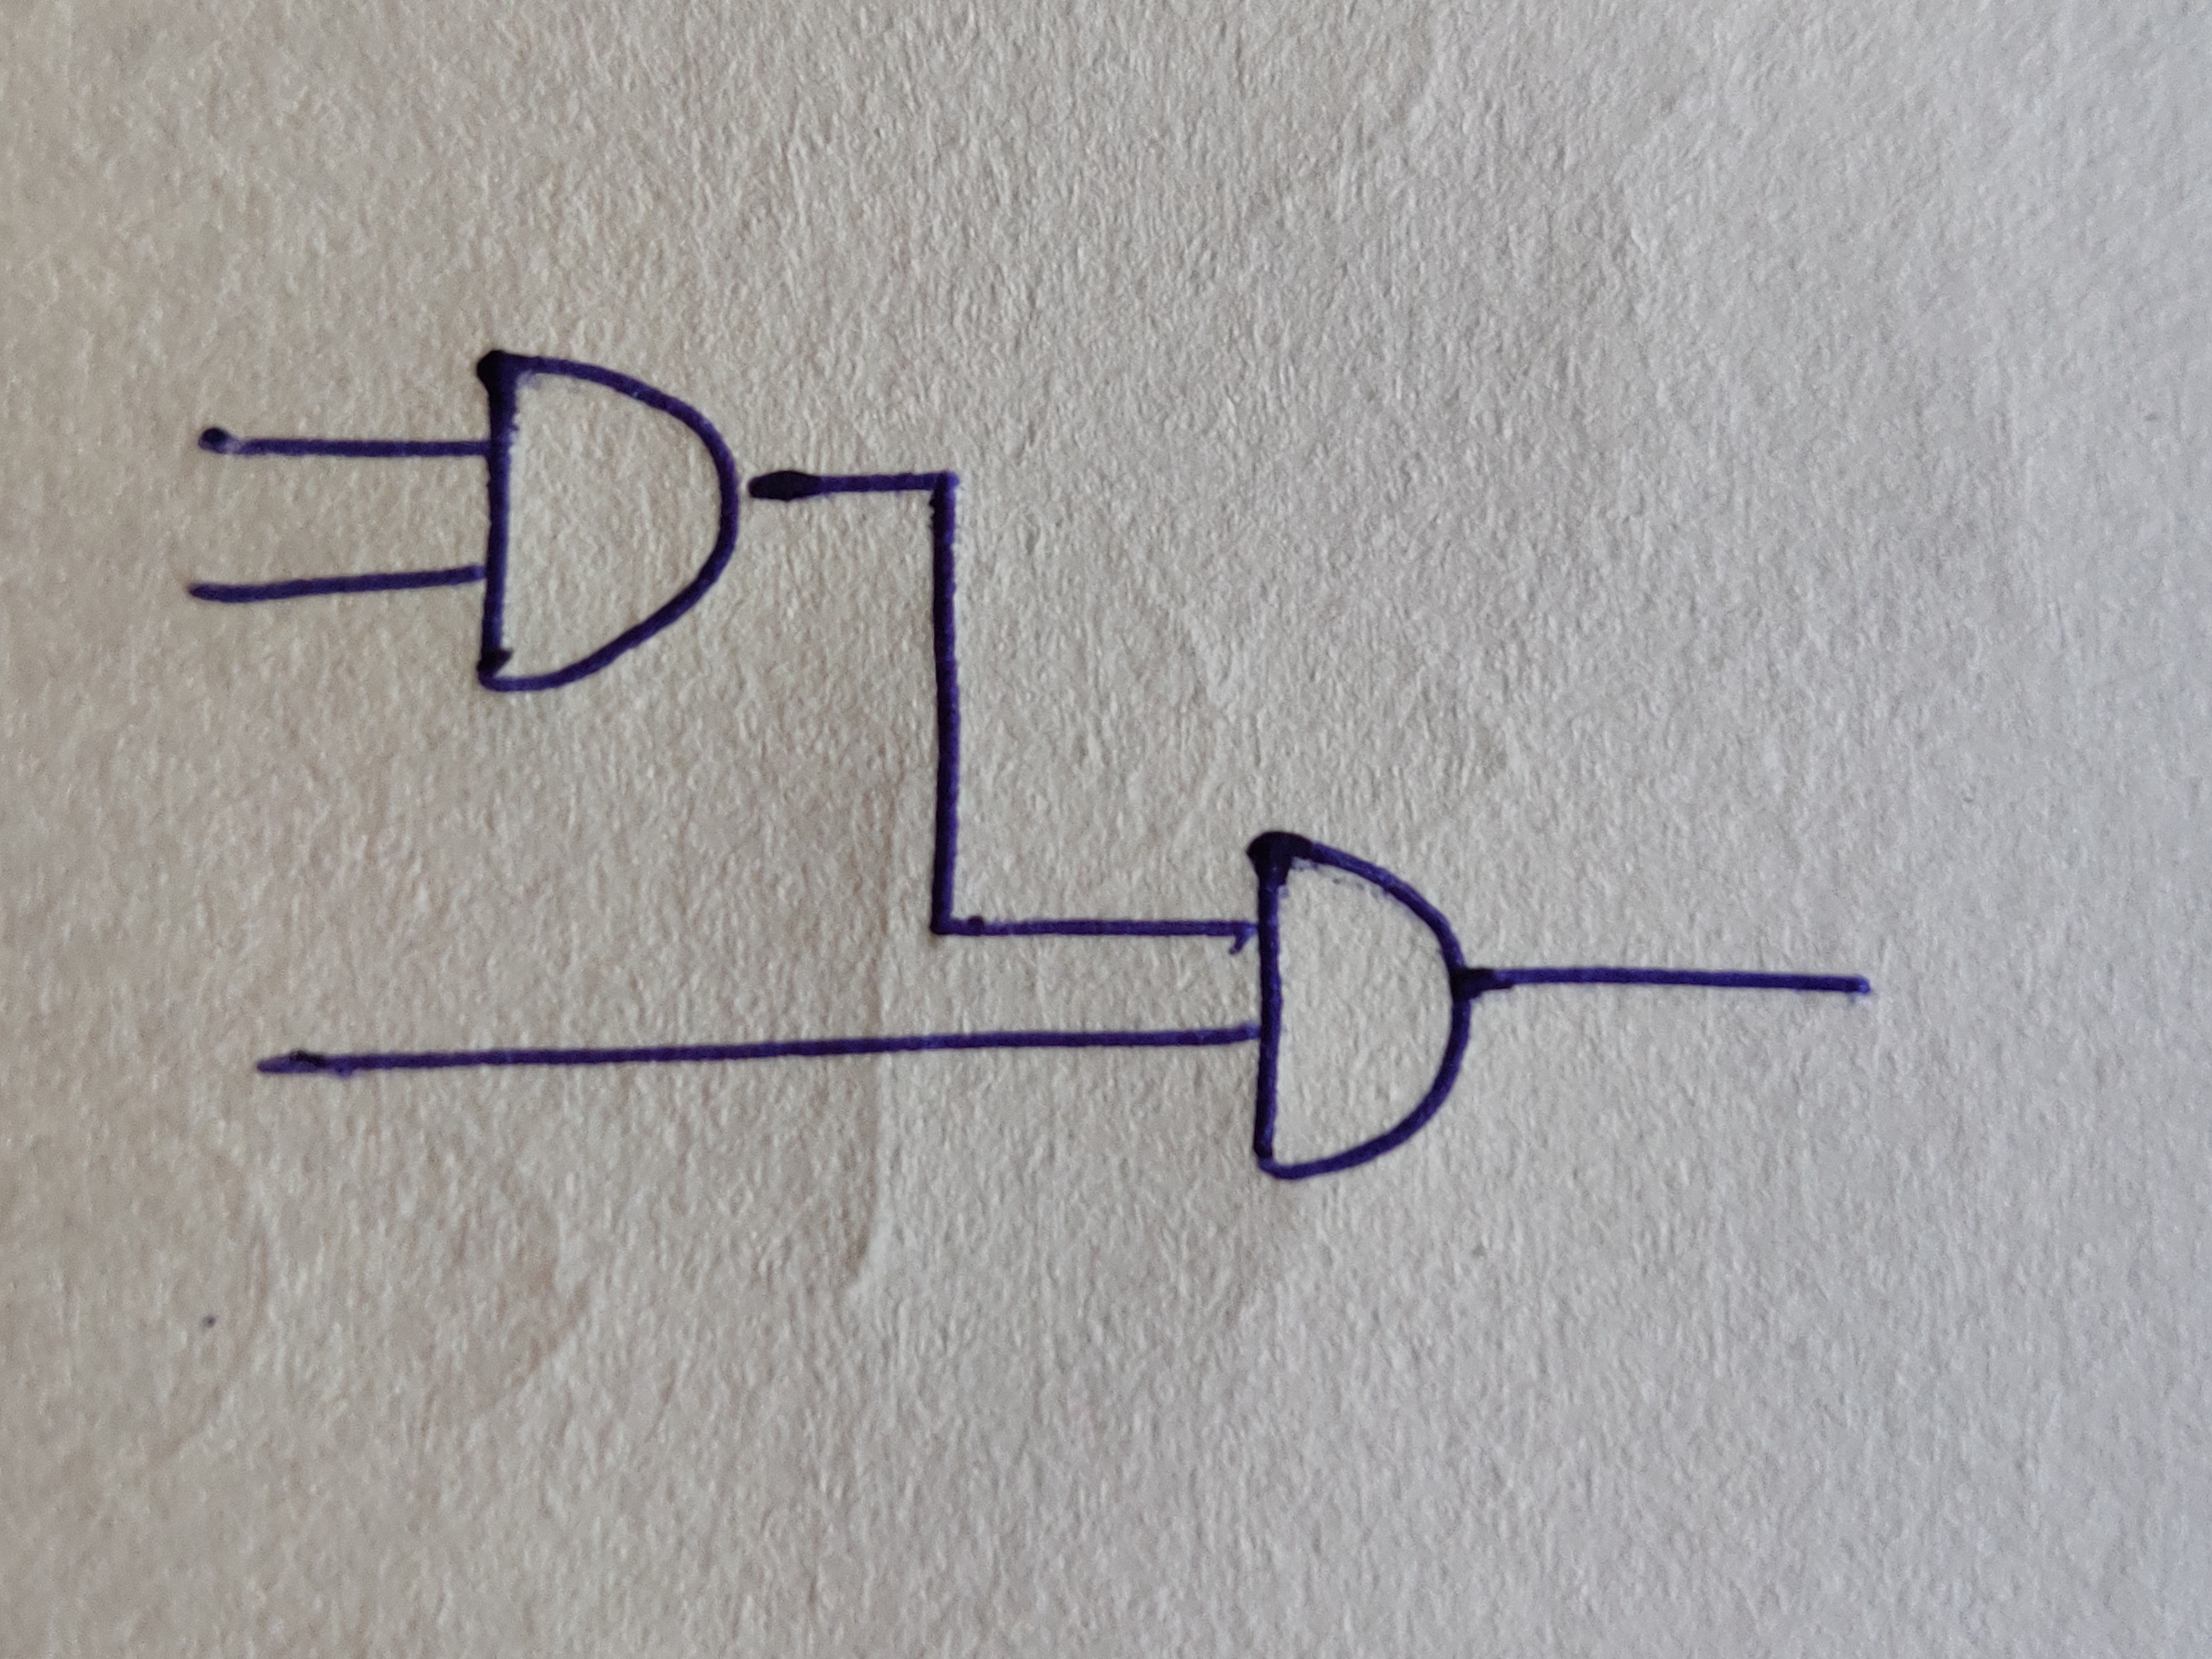and: (475, 350, 740, 692), (1247, 830, 1470, 1182)
